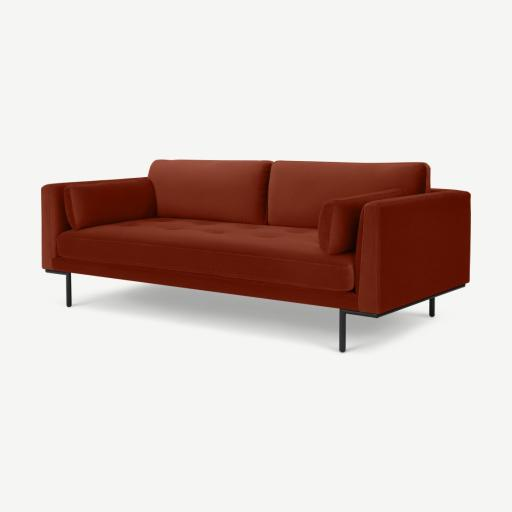back_cushion: (148, 160, 429, 227)
base: (52, 258, 358, 309)
left_arm: (355, 190, 470, 313)
legs: (45, 269, 72, 306), (339, 308, 360, 352), (430, 297, 435, 316), (361, 313, 375, 317)
right_arm: (42, 184, 76, 269), (78, 179, 133, 188)
seat_cushion: (57, 218, 355, 292)
two-seater: (0, 0, 511, 512)
